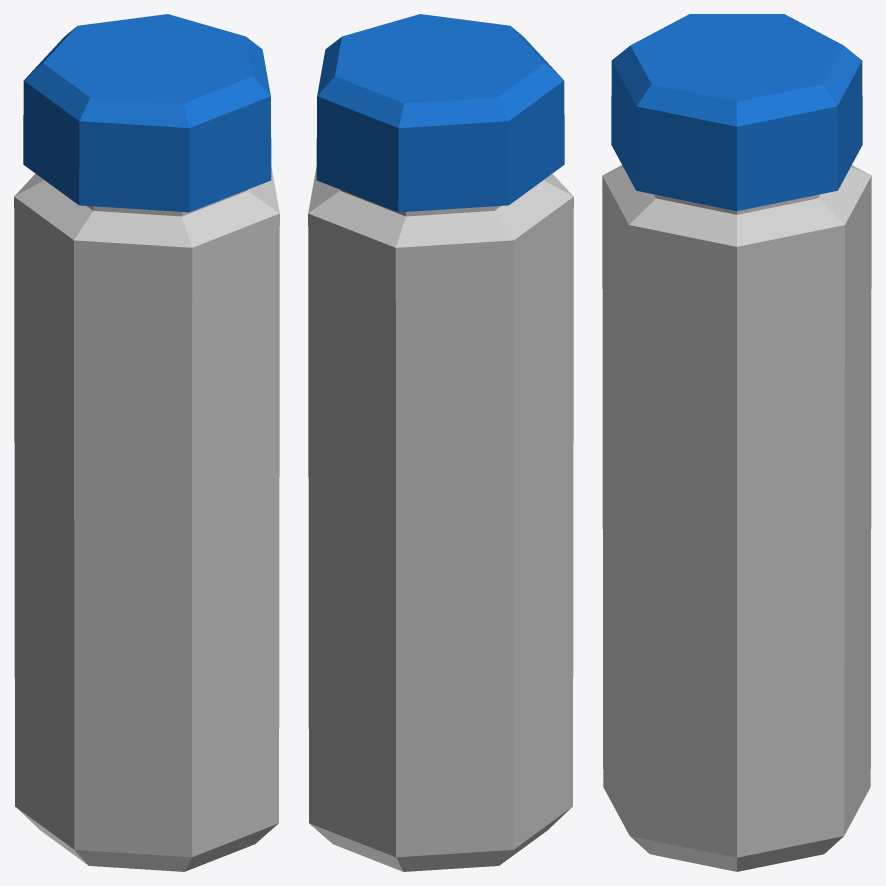
The model's file is SM_water_bottle1.fbx.
3 renders of one model, left to right at view 1: azimuth 30°, elevation 25°; view 2: azimuth 150°, elevation 25°; view 3: azimuth 270°, elevation 25°, orthographic.
Parts seen in each view (by area): view 1: water_bottle1; view 2: water_bottle1; view 3: water_bottle1.
Boxes of the visible parts, box(x1,y1,x2,y2) form: water_bottle1: box(14, 14, 279, 871); water_bottle1: box(308, 14, 573, 871); water_bottle1: box(602, 14, 871, 871).
Bounding box in the file's own units: 7.49 × 24.21 × 7.68.
